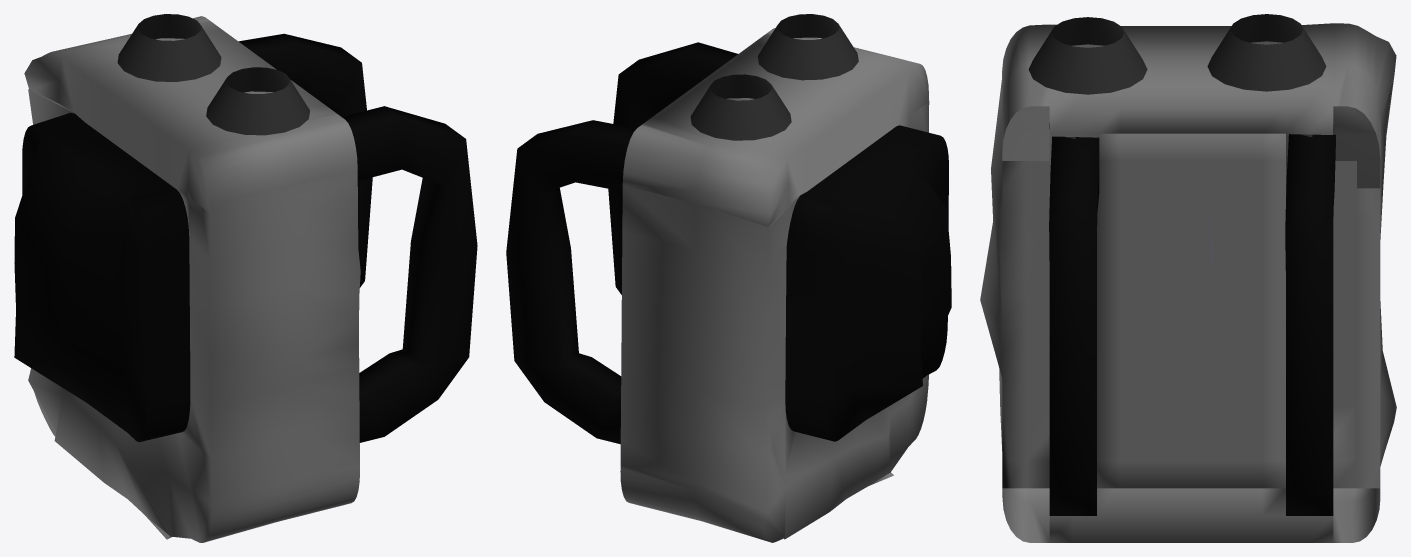
File: Jetpack 001.fbx
3 renders of one model, left to right at view 1: azimuth 30°, elevation 25°; view 2: azimuth 150°, elevation 25°; view 3: azimuth 270°, elevation 25°, orthographic. The views are drawn at different scales.
Visible parts, largest first — view 1: Jetpack; view 2: Jetpack; view 3: Jetpack.
Part boxes in pixels (<box>): Jetpack: <box>14,14,477,542</box>; Jetpack: <box>506,14,951,542</box>; Jetpack: <box>980,14,1396,542</box>.
Bounding box in the file's own units: 211 × 230 × 175.
